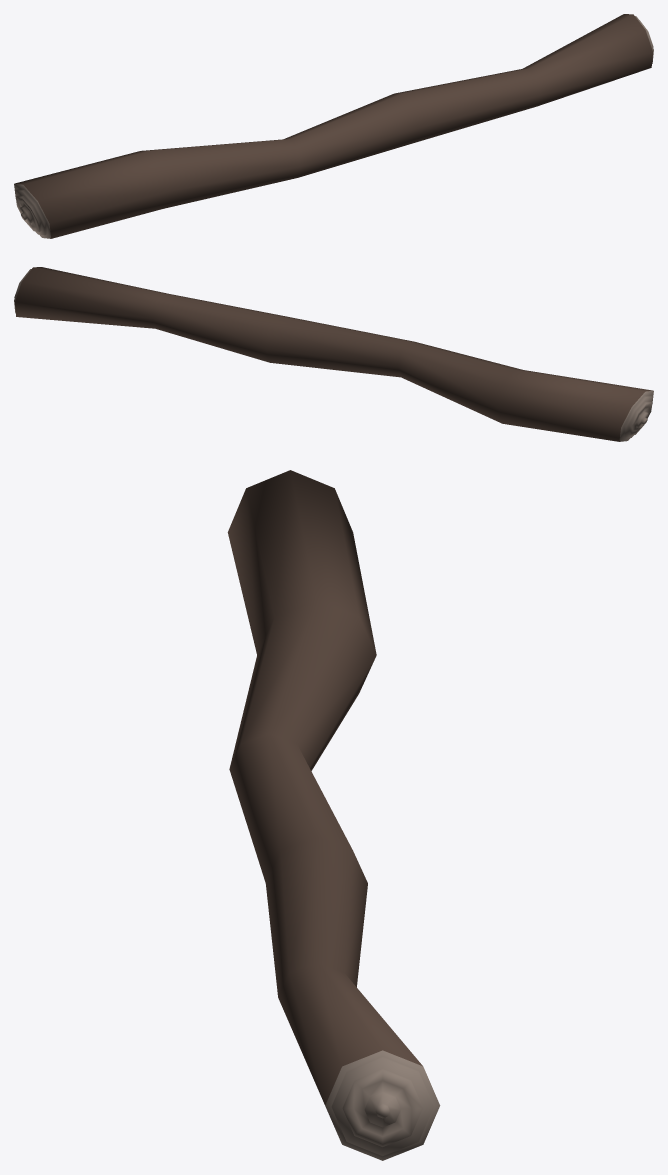
The model's file is Msh_wooden_stick_5_Env.fbx.
3 renders of one model, top to bottom at view 1: azimuth 30°, elevation 25°; view 2: azimuth 150°, elevation 25°; view 3: azimuth 270°, elevation 25°, orthographic. The views are drawn at different scales.
Parts seen in each view (by area): view 1: wooden_stick_5; view 2: wooden_stick_5; view 3: wooden_stick_5.
Boxes of the visible parts, box(x1,y1,x2,y2) form: wooden_stick_5: box(14, 14, 653, 238); wooden_stick_5: box(14, 267, 653, 441); wooden_stick_5: box(227, 470, 440, 1160).
Size of the model in its own units: 74.51 by 11.34 by 6.86.
